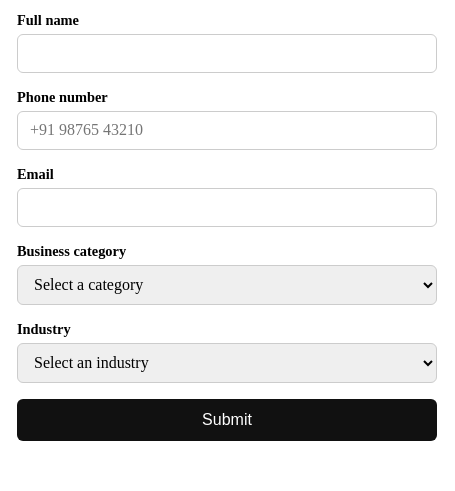
Test case: LeadForm › shows a network-failure message when the API can't be reached
Type "Vansh Shah" into the field labelled "Full name" at (227, 53), box [17,34,437,73]
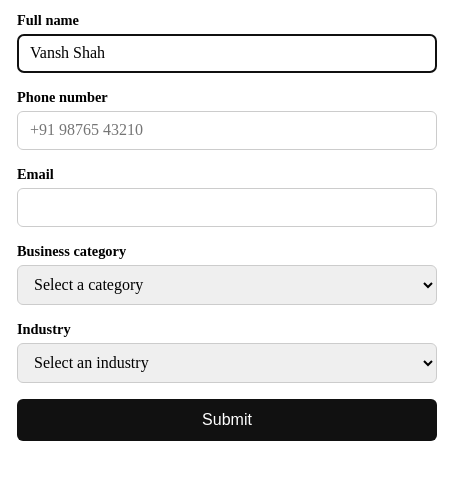
Type "+919876543210" into the field labelled "Phone number" at (227, 130), box [17,111,437,150]
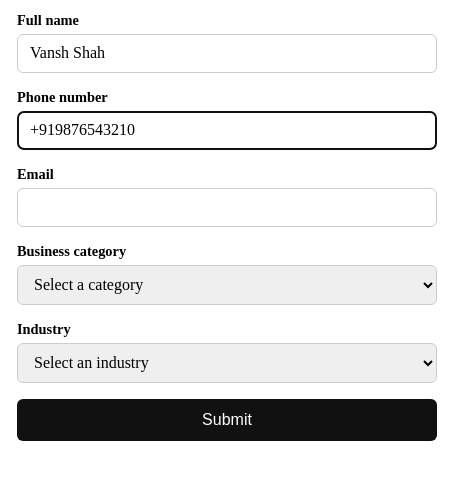
Type "vansh@example.com" into the field labelled "Email" at (227, 207), box [17,188,437,227]
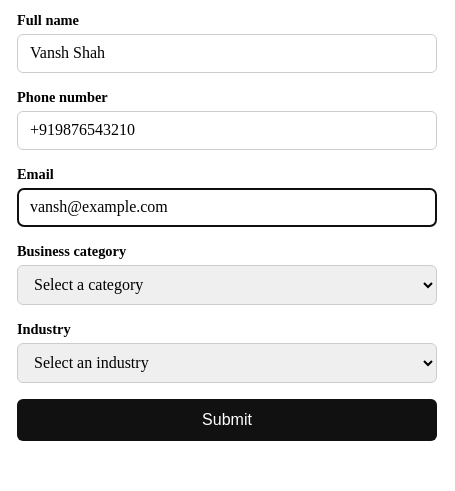
Select "Manufacturing" in the dropdown labelled "Business category" at (227, 285), box [17,265,437,305]
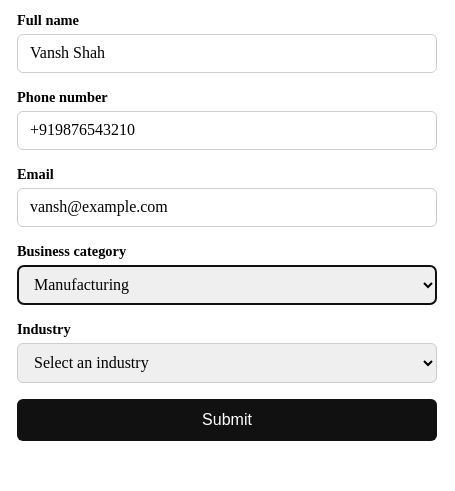
Select "Textiles & Fabrics" in the dropdown labelled "Industry" at (227, 363), box [17,343,437,383]
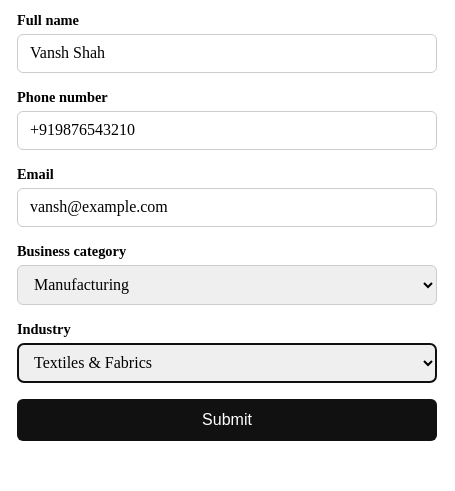
Click the button "Submit" at (227, 420), box [17,399,437,441]
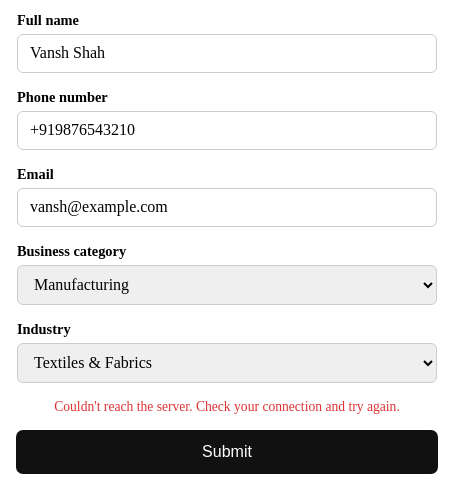
Check: the text "Couldn't reach the server. Check your connection and try again." is shown, box [54,399,400,414]
